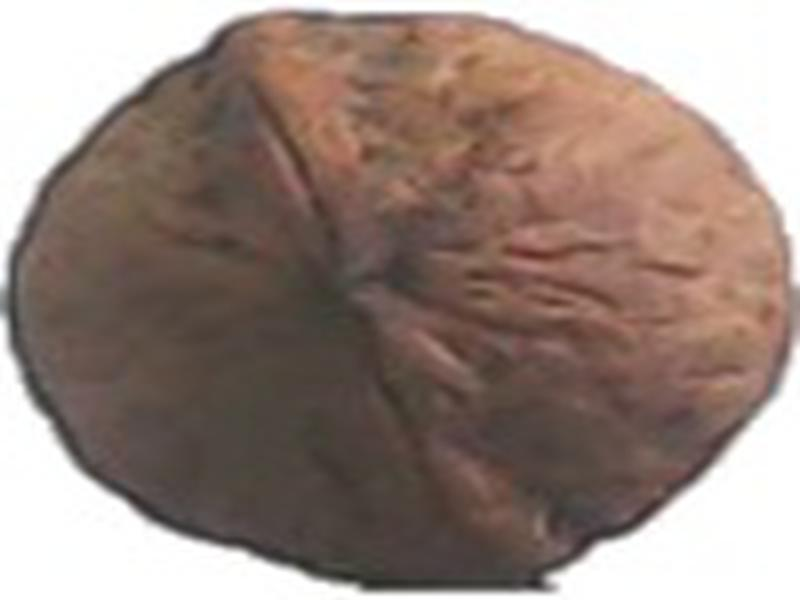walnut: (1, 3, 800, 596)
